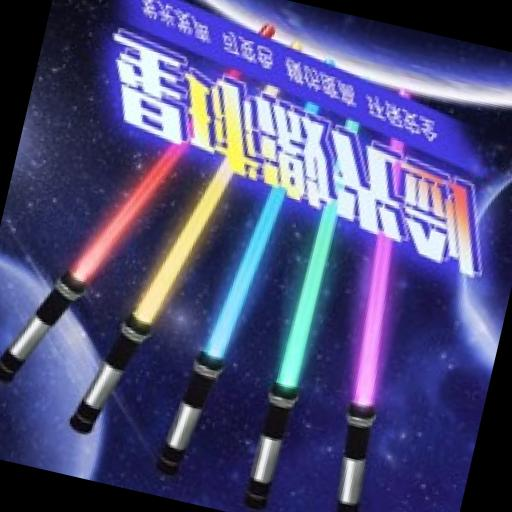lightsaber: (70, 12, 303, 462), (160, 45, 334, 491), (299, 85, 457, 512), (242, 66, 377, 512)
sith saber: (0, 0, 273, 423)
